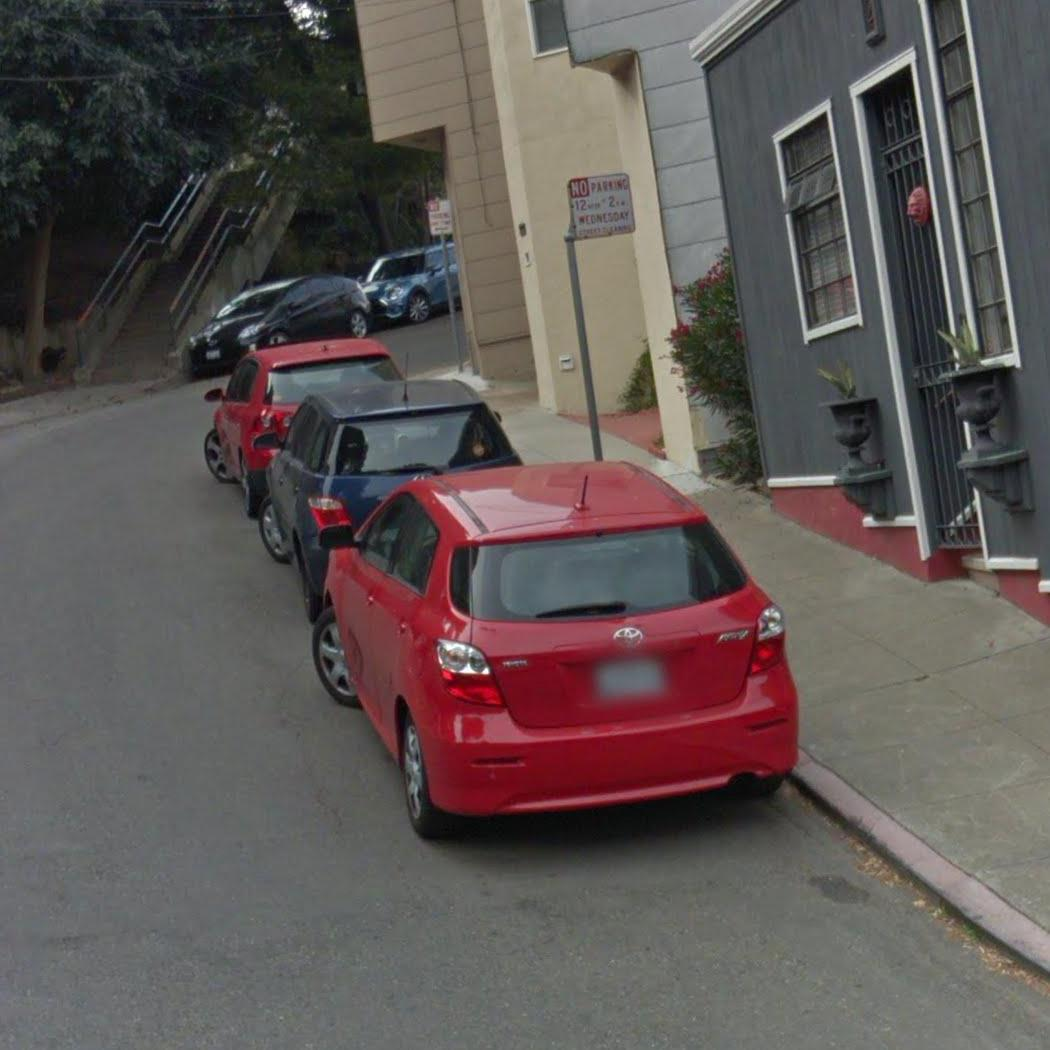No Parking: (565, 170, 637, 241)
No Parking Anytime: (423, 198, 459, 236)
